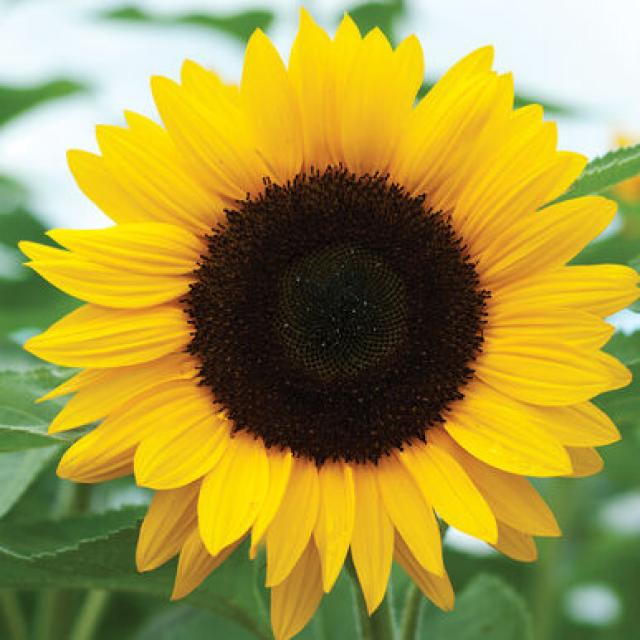sunflower: (23, 3, 640, 640)
